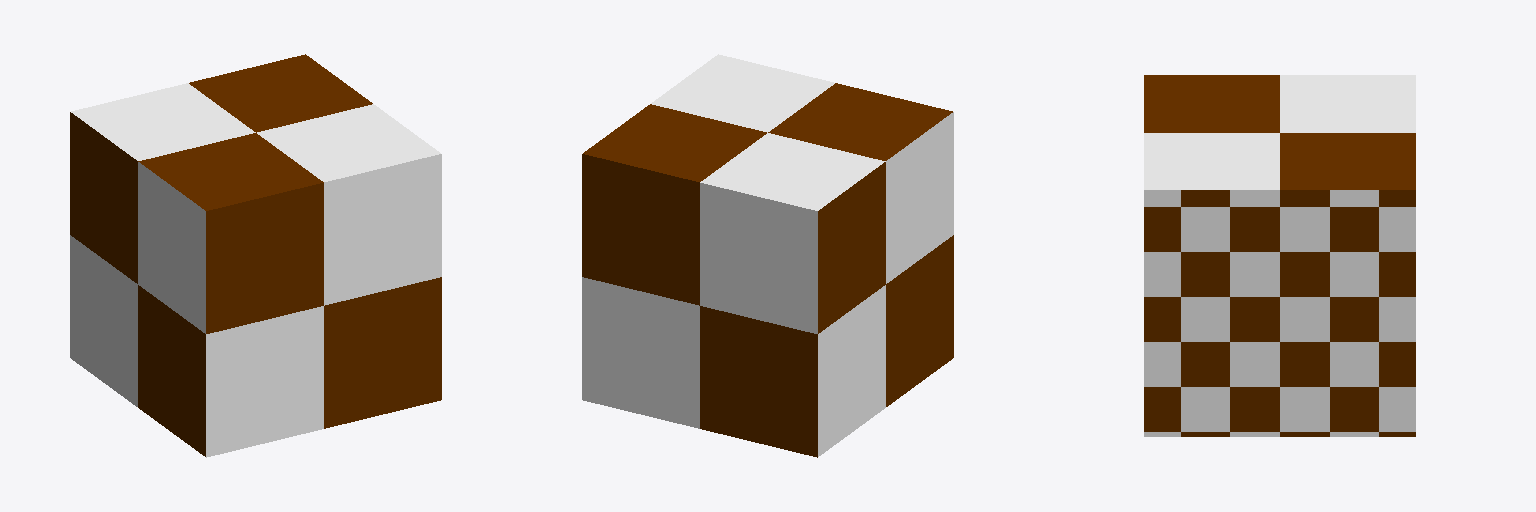
3 renders of one model, left to right at view 1: azimuth 30°, elevation 25°; view 2: azimuth 150°, elevation 25°; view 3: azimuth 270°, elevation 25°, orthographic.
Visible parts, largest first — view 1: Cube; view 2: Cube; view 3: Cube.
Part boxes in pixels (bbox=[...]): Cube: bbox=[70, 54, 441, 457]; Cube: bbox=[582, 54, 953, 457]; Cube: bbox=[1144, 75, 1415, 436].
Bounding box in the file's own units: 2 × 2 × 2.
1 materials, 1 textured.